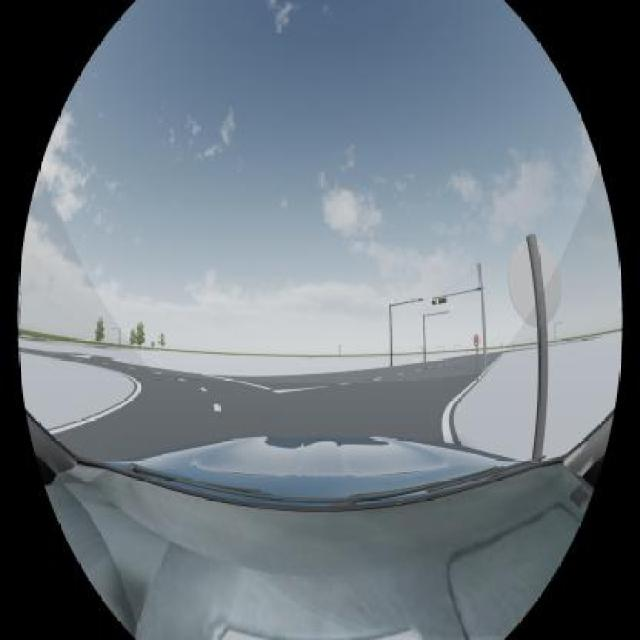forb_speed_over_100: (474, 335, 478, 347)
